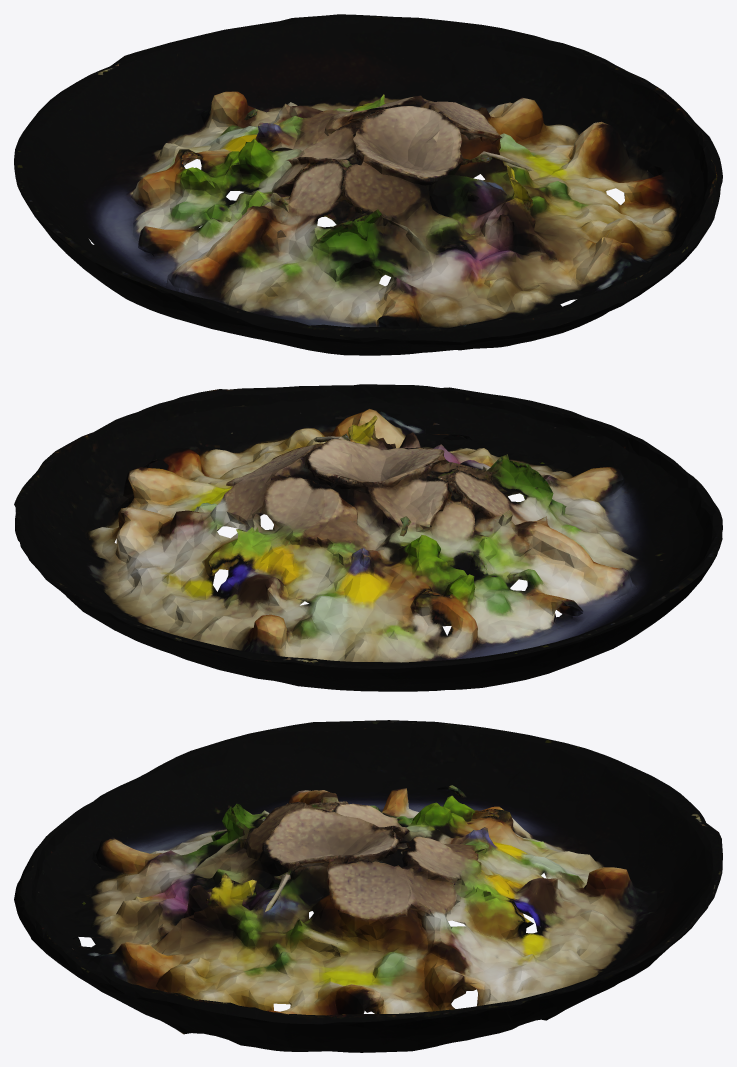
Rendered from risotto-porcini.glb.
3 views of the same model, one above another, from view 1: azimuth 30°, elevation 25°; view 2: azimuth 150°, elevation 25°; view 3: azimuth 270°, elevation 25° (orthographic).
Visible parts, largest first — view 1: world; view 2: world; view 3: world.
Part boxes in pixels (left/top/right/bottom): world: left=14, top=14, right=722, bottom=355; world: left=14, top=384, right=722, bottom=691; world: left=14, top=720, right=722, bottom=1052.
Size of the model in its own units: 0.9401 by 0.1717 by 0.9535.
Materials: 1 (1 with a texture image).
